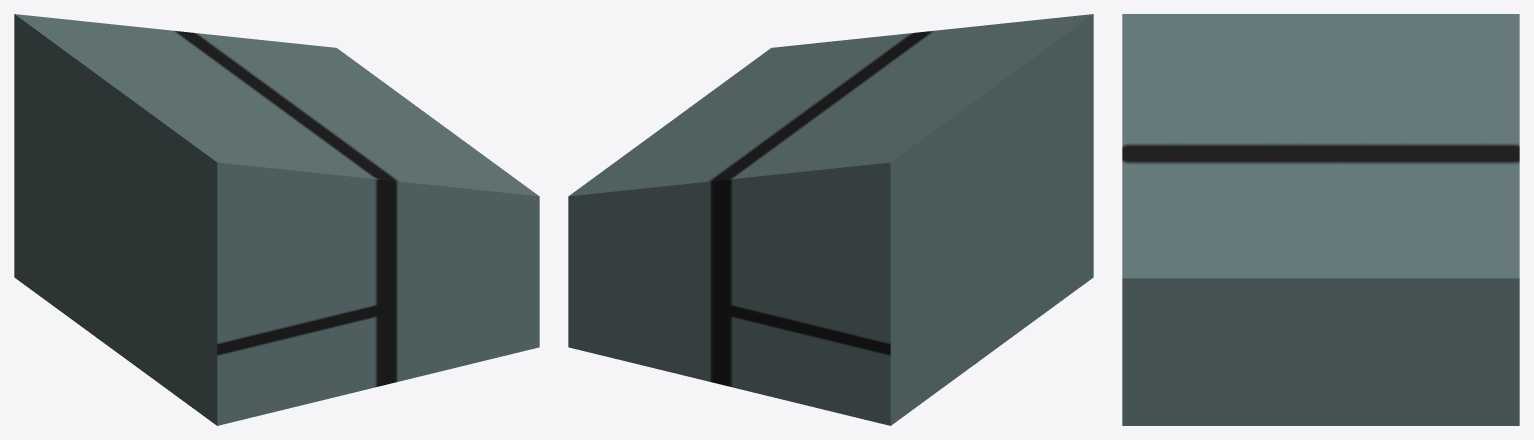
File: Basecar_Front.fbx
The picture shows the model from 3 angles, left to right: view 1: azimuth 30°, elevation 25°; view 2: azimuth 150°, elevation 25°; view 3: azimuth 270°, elevation 25°; orthographic projection. The views are drawn at different scales.
Parts seen in each view (by area): view 1: BaseCar_Front; view 2: BaseCar_Front; view 3: BaseCar_Front.
Boxes of the visible parts, x1=… form: BaseCar_Front: x1=14, y1=14, x2=539, y2=425; BaseCar_Front: x1=568, y1=14, x2=1093, y2=425; BaseCar_Front: x1=1122, y1=14, x2=1519, y2=425.
Bounding box in the file's own units: 95.81 × 74.82 × 104.
